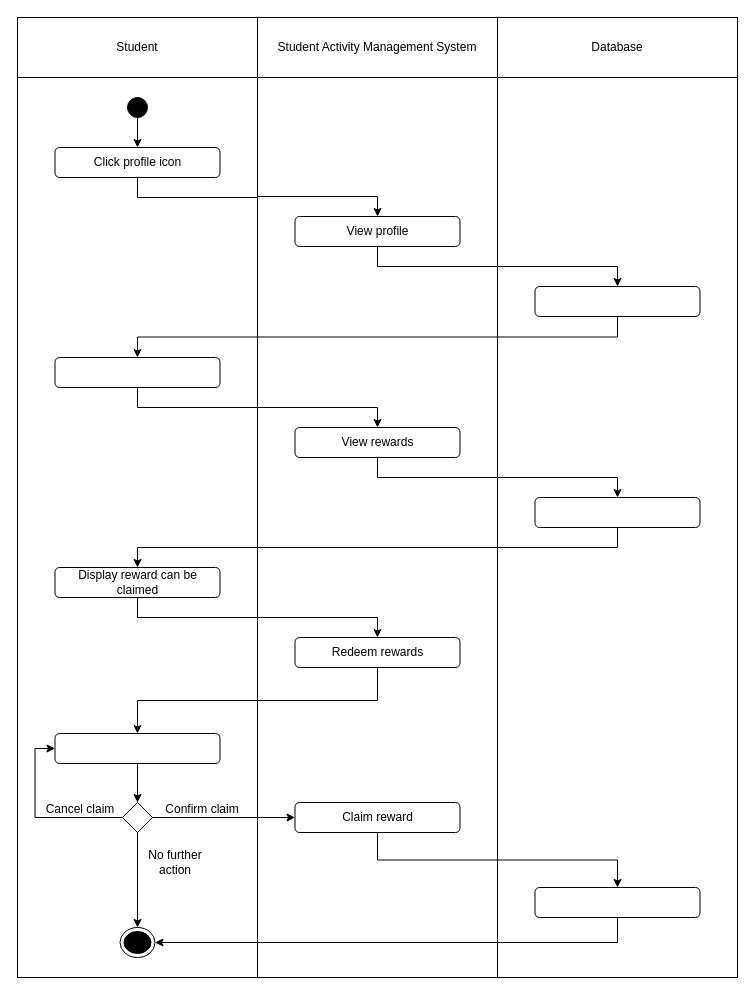
This 755x995 diagram has some shape labels left out. Each missing label, with the box of its shape:
Display profile: (54, 356, 220, 388)
Display reward page: (54, 732, 220, 764)
Include badges and update profile: (534, 886, 700, 918)
Retrieve profile: (534, 286, 700, 316)
Retrieve rewards: (534, 496, 700, 528)
